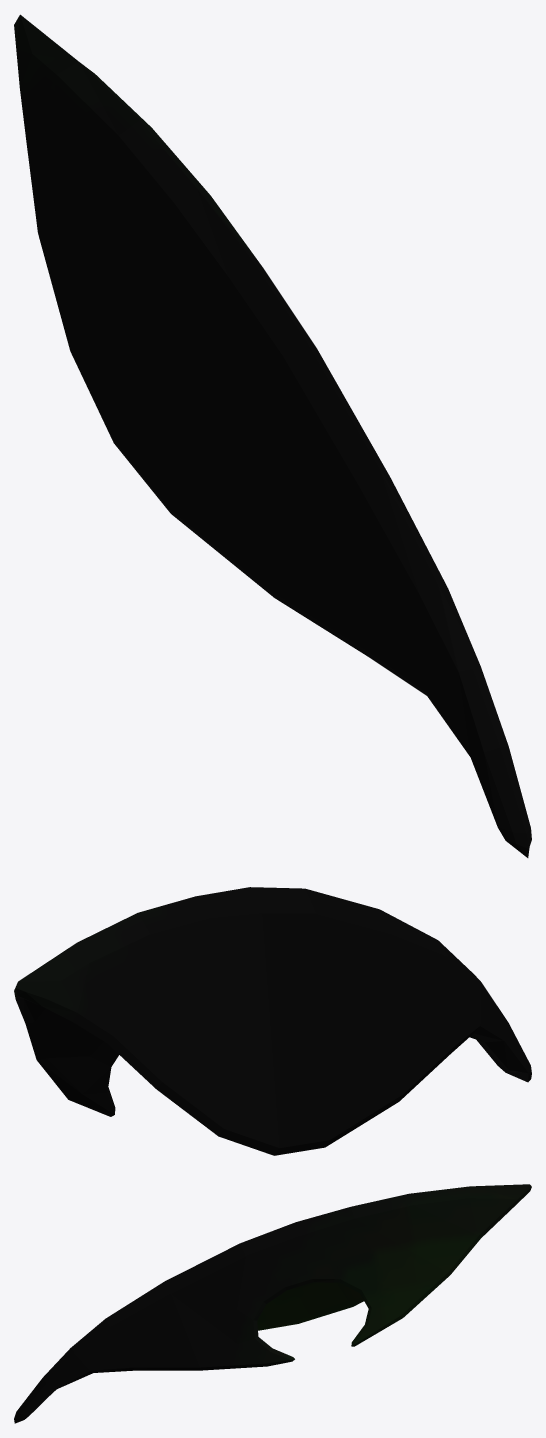
File: 0409_saiwen.glb
3 renders of one model, top to bottom at view 1: azimuth 30°, elevation 25°; view 2: azimuth 150°, elevation 25°; view 3: azimuth 270°, elevation 25°, orthographic. The views are drawn at different scales.
Bounding box in the file's own units: 0.4205 × 1.12 × 2.2.
Materials: 1 (1 with a texture image).
